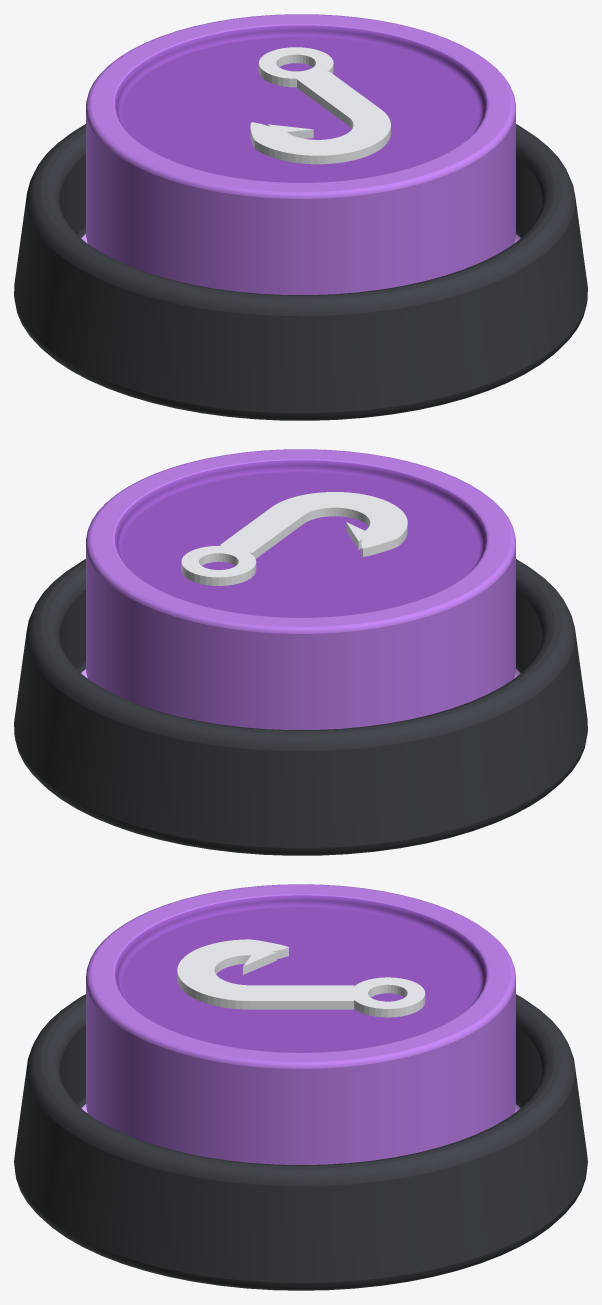
Rendered from HookButton.fbx.
3 views of the same model, one above another, from view 1: azimuth 30°, elevation 25°; view 2: azimuth 150°, elevation 25°; view 3: azimuth 270°, elevation 25° (orthographic).
Parts seen in each view (by area): view 1: HookButton_Cap, HookButton_Base; view 2: HookButton_Cap, HookButton_Base; view 3: HookButton_Cap, HookButton_Base.
Boxes of the visible parts, box(x1,y1,x2,y2) form: HookButton_Cap: box(86, 14, 515, 294); HookButton_Base: box(14, 124, 587, 420); HookButton_Cap: box(86, 449, 515, 729); HookButton_Base: box(14, 559, 587, 855); HookButton_Cap: box(86, 884, 515, 1164); HookButton_Base: box(14, 994, 587, 1290).
Bounding box in the file's own units: 0.0547 × 0.021 × 0.0547.
